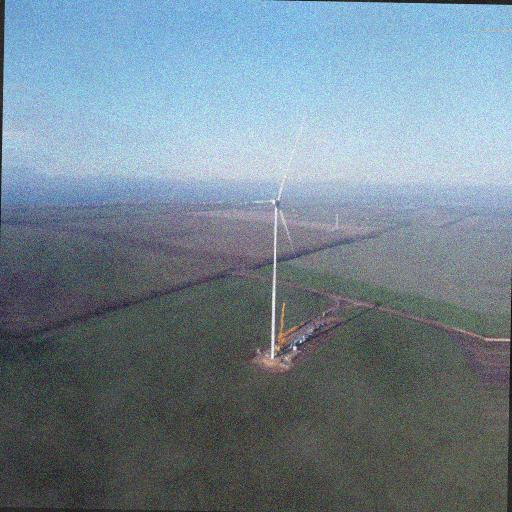wind turbine: (223, 125, 305, 355)
